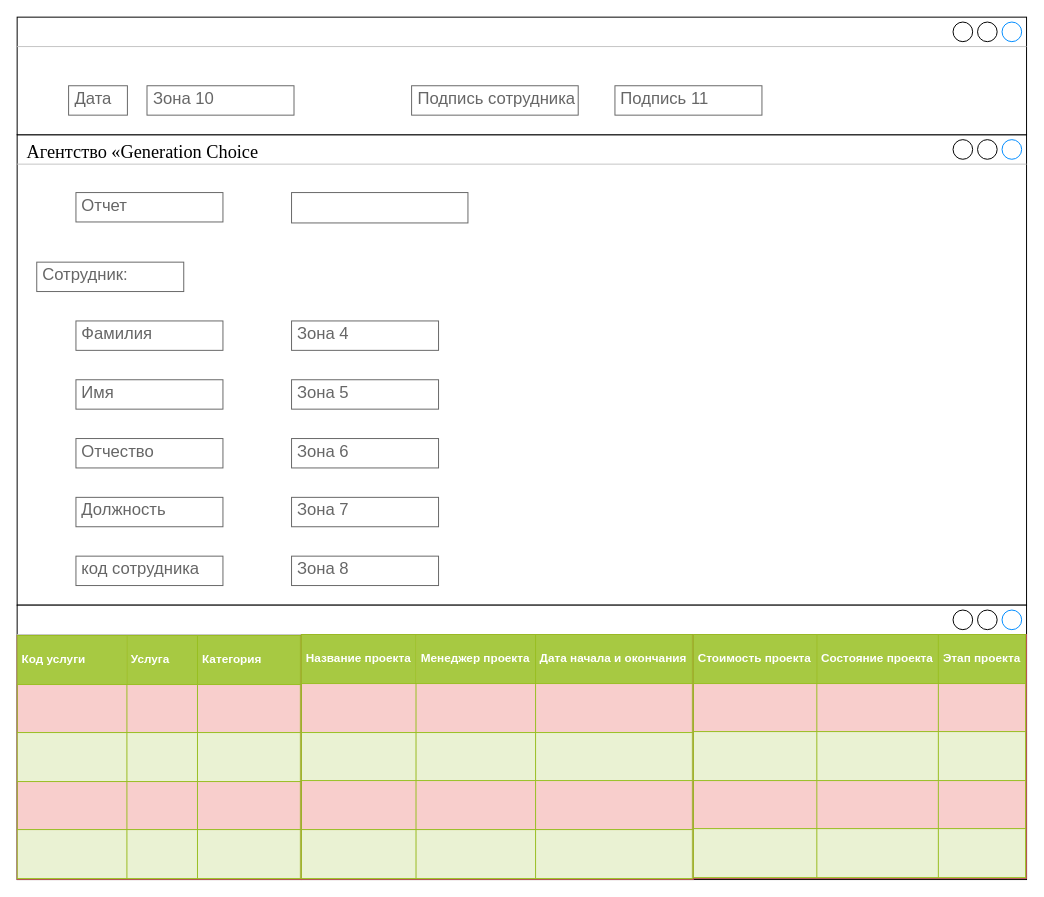
Some shapes in this 1044 by 897 pixel diagram are drawn without their labels. The box of each missing label's shape, as (x1, y1, x2, y2) in pixels:
О состояние проекта: (291, 192, 468, 223)
Оформляющая зона: (16, 16, 1027, 135)
Содержательная Часть: (16, 604, 1027, 880)
